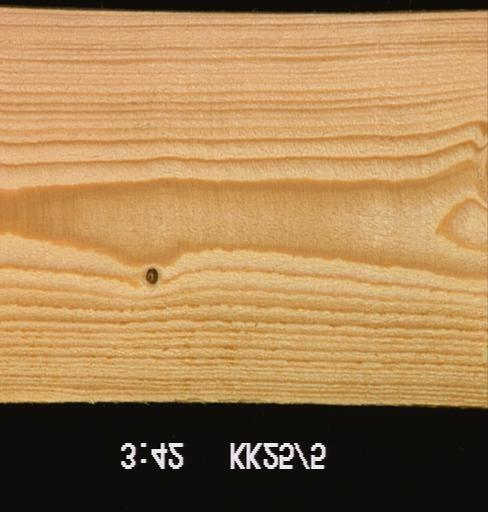dry_knot: (142, 266, 159, 287)
